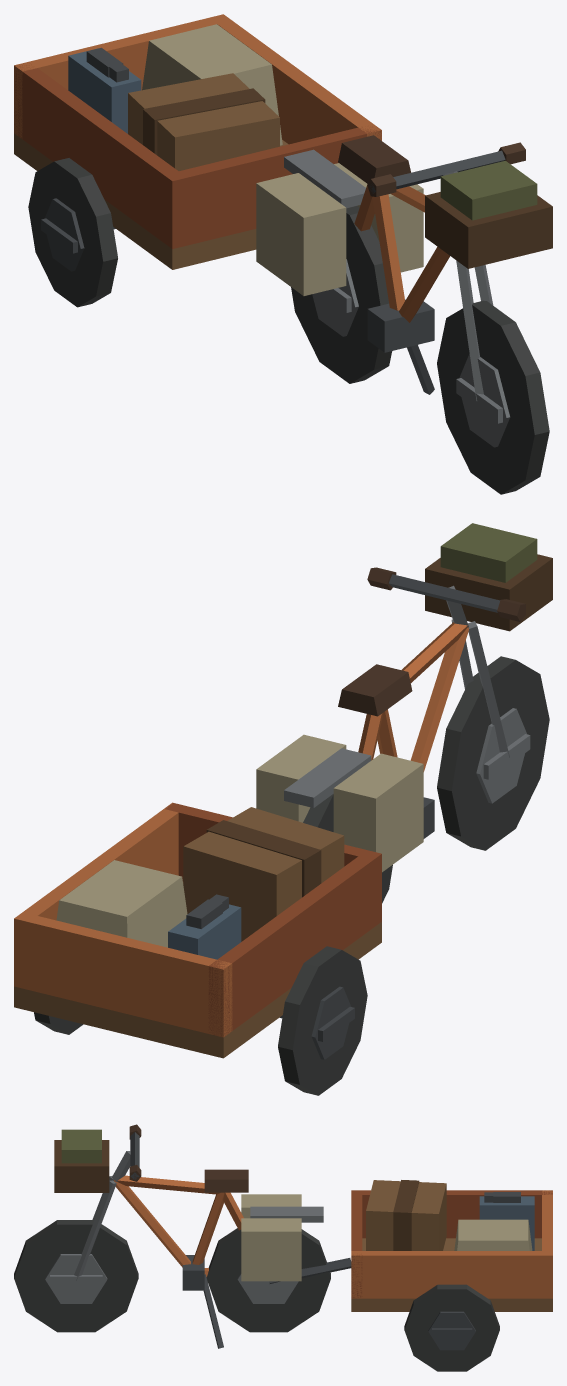
The model's file is vehicle_bicycle_cart_l2.glb.
The picture shows the model from 3 angles, top to bottom: view 1: azimuth 30°, elevation 25°; view 2: azimuth 150°, elevation 25°; view 3: azimuth 270°, elevation 25°; orthographic projection. The views are drawn at different scales.
Parts seen in each view (by area): view 1: body, wheel_f, wheel_tr, wheel_r; view 2: body, wheel_f, wheel_tr, wheel_r; view 3: body, wheel_f, wheel_r, wheel_tl.
Part boxes in pixels (bbox=[...]): body: bbox=[14, 14, 552, 400]; wheel_f: bbox=[437, 300, 549, 494]; wheel_tr: bbox=[28, 158, 117, 307]; wheel_r: bbox=[291, 206, 392, 383]; body: bbox=[14, 523, 552, 1058]; wheel_f: bbox=[437, 656, 549, 850]; wheel_tr: bbox=[278, 946, 367, 1095]; wheel_r: bbox=[303, 794, 392, 903]; body: bbox=[54, 1124, 552, 1348]; wheel_f: bbox=[14, 1220, 138, 1332]; wheel_r: bbox=[206, 1228, 330, 1332]; wheel_tl: bbox=[404, 1284, 499, 1371].
Size of the model in its own units: 1.13 by 1.17 by 2.94.
